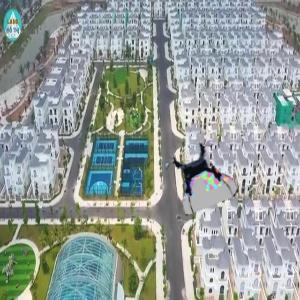drone: (167, 143, 234, 210)
